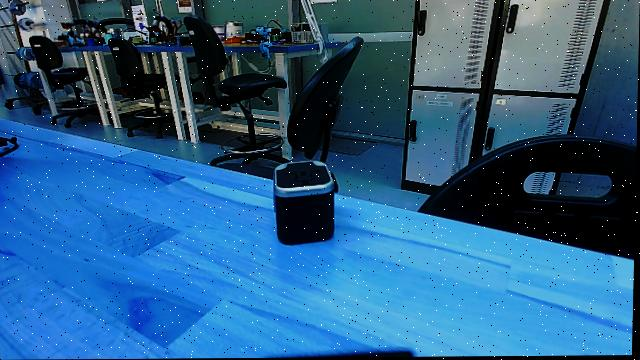adapter: (266, 155, 345, 247)
